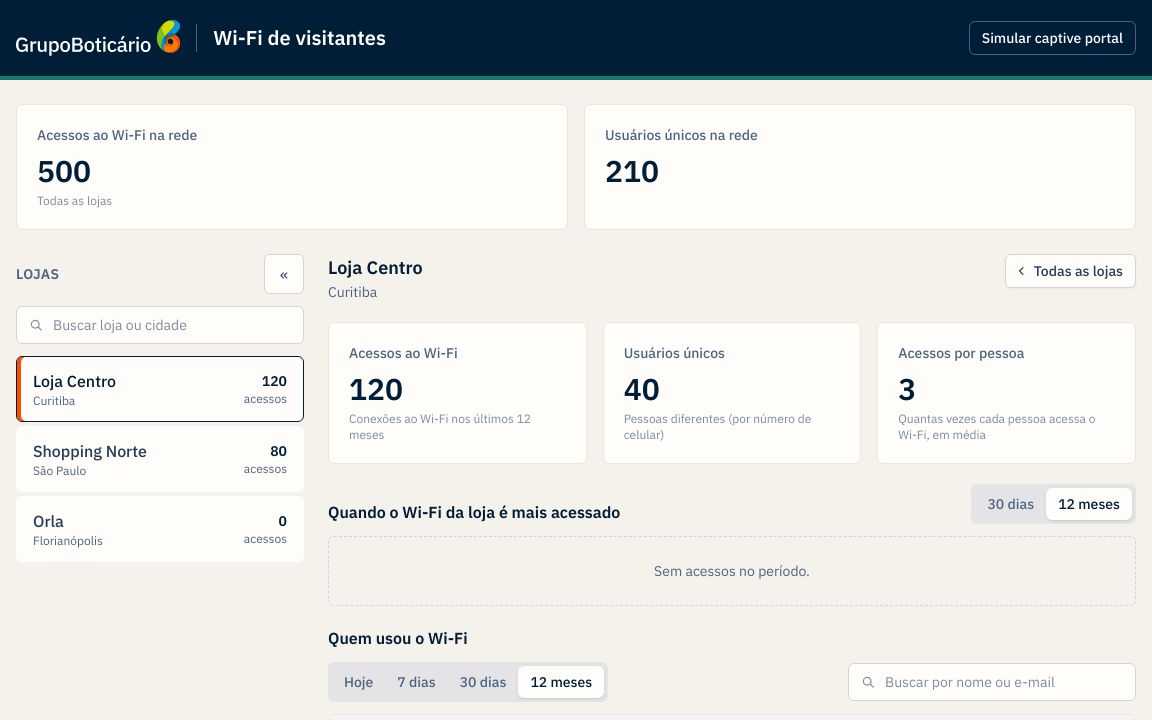
Test: DashboardPage: loja selecionada › limpa a busca pelo botão X
Type "maria" into the search field named "Buscar usuário" at coordinates (992, 682), box [848, 663, 1136, 701]
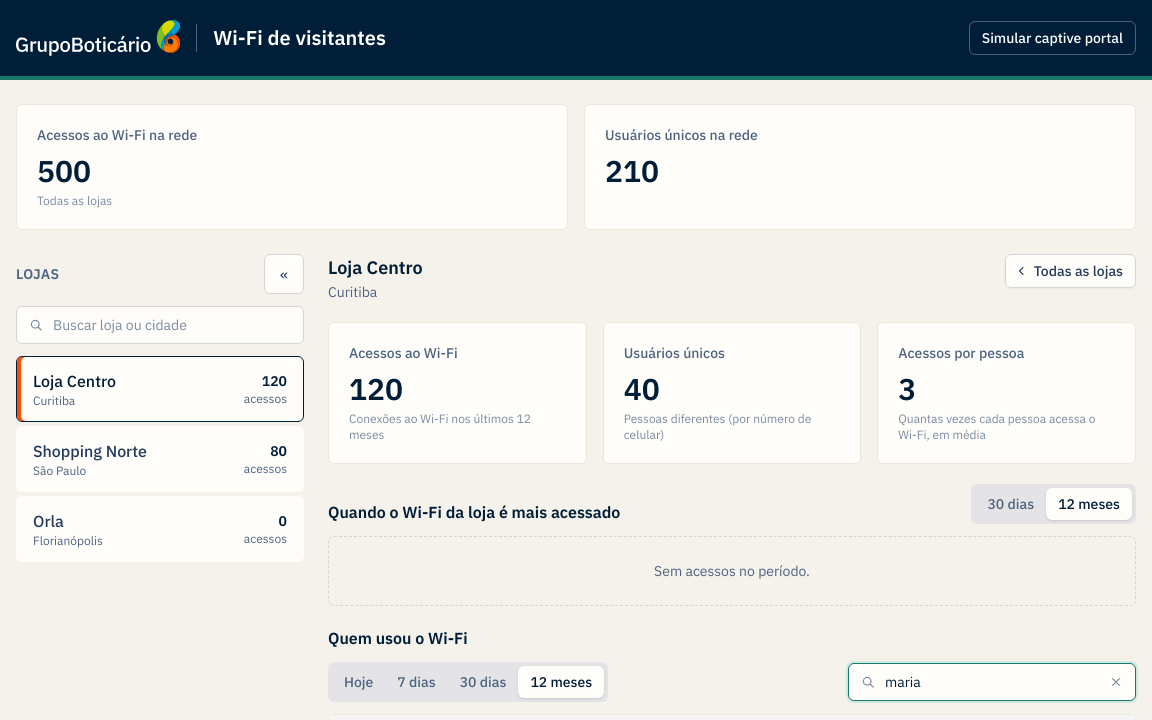
Click the button named "Limpar busca" at coordinates (1116, 682), box [1104, 670, 1128, 694]
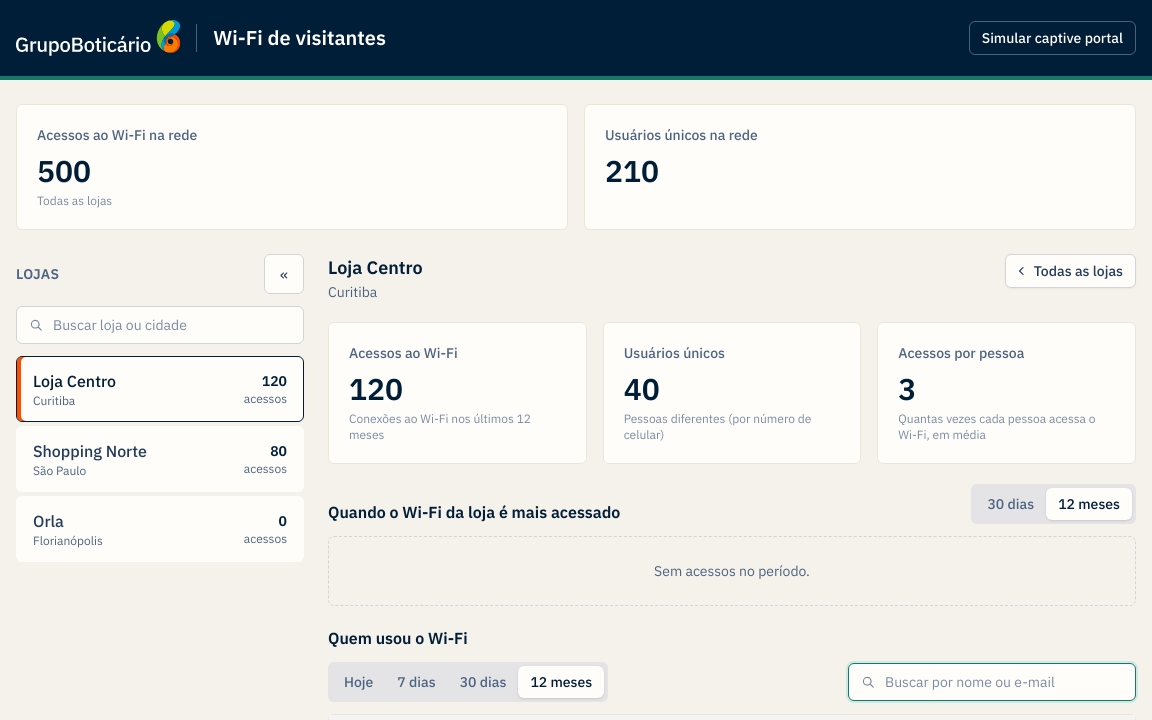
Check: the search field named "Buscar usuário" is empty, box [848, 663, 1136, 701]
